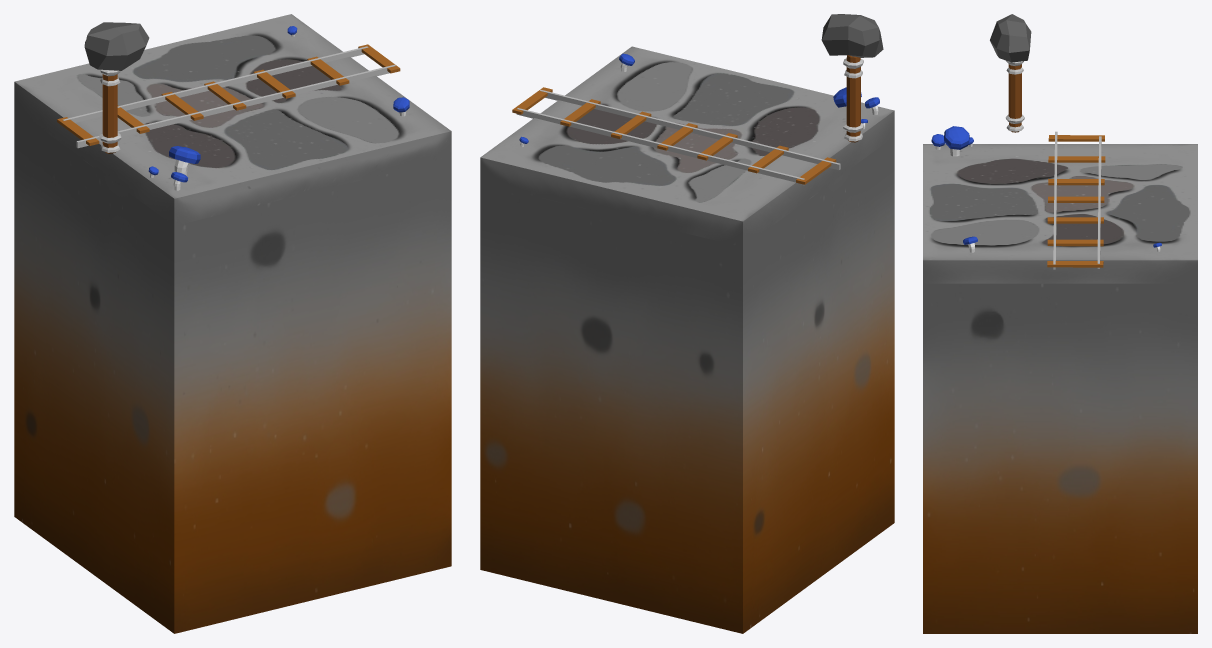
The model's file is Enmedio2Cueva.fbx.
3 renders of one model, left to right at view 1: azimuth 30°, elevation 25°; view 2: azimuth 150°, elevation 25°; view 3: azimuth 270°, elevation 25°, orthographic. The views are drawn at different scales.
Parts seen in each view (by area): view 1: Enmedio2Cueva, MartilloMalo, Cube.004, Cube.005; view 2: Enmedio2Cueva, MartilloMalo, Cube.004, Cube.005; view 3: Enmedio2Cueva, MartilloMalo, Cube.046, Cube.004, Cube.005, Cube.007.
Part boxes in pixels (x1=…): Enmedio2Cueva: x1=14, y1=14, x2=451, y2=633; MartilloMalo: x1=84, y1=22, x2=149, y2=153; Cube.004: x1=76, y1=64, x2=395, y2=148; Cube.005: x1=63, y1=46, x2=368, y2=122; Enmedio2Cueva: x1=480, y1=46, x2=894, y2=633; MartilloMalo: x1=821, y1=14, x2=883, y2=142; Cube.004: x1=539, y1=90, x2=840, y2=170; Cube.005: x1=516, y1=108, x2=804, y2=185; Enmedio2Cueva: x1=923, y1=144, x2=1197, y2=633; MartilloMalo: x1=990, y1=14, x2=1031, y2=132; Cube.046: x1=944, y1=126, x2=969, y2=149; Cube.004: x1=1053, y1=131, x2=1057, y2=269; Cube.005: x1=1097, y1=136, x2=1101, y2=268; Cube.007: x1=1047, y1=239, x2=1103, y2=246.
Size of the model in its own units: 1210 by 1977 by 1000.
